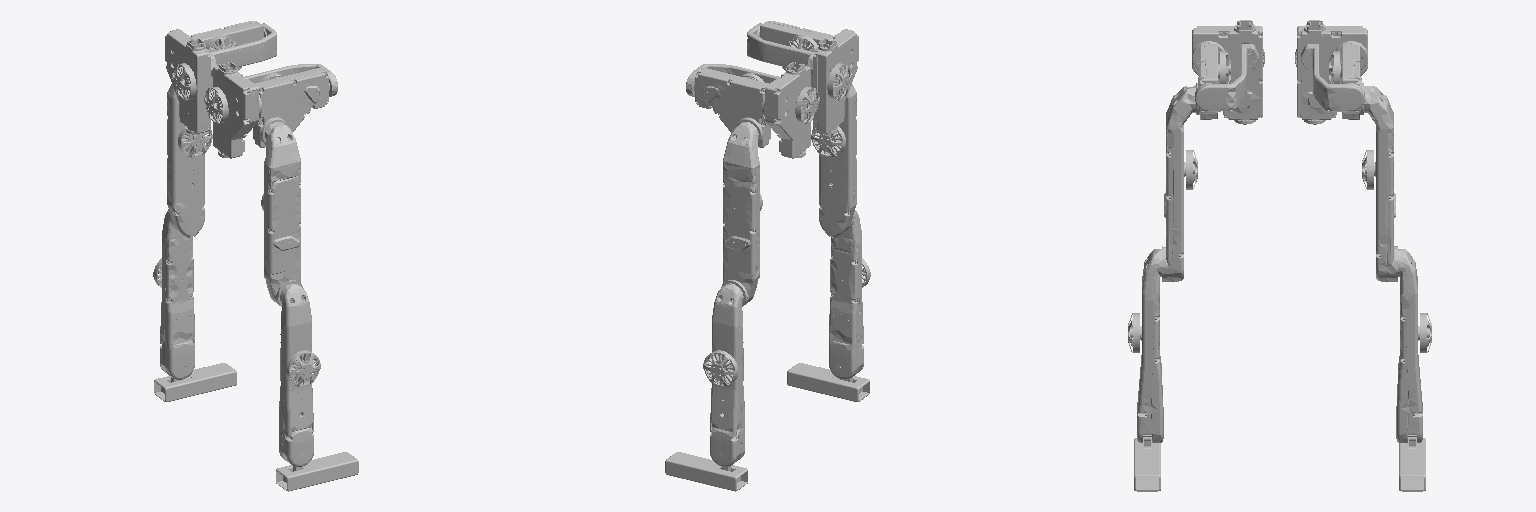
robot.urdf — bolt12_urdf:
<robot name="bolt12_urdf">
<link name="base_link">
    <inertial>
      <origin rpy="0 0 0" xyz="-0.011993 0 -0.019033"/>
      <mass value="1.105"/>
      <inertia ixx="0.006" ixy="0.0" ixz="0.000056" iyy="0.005" iyz="0.0" izz="0.006"/>
    </inertial>
    <visual>
      <origin rpy="0 0 0" xyz="0 0 0"/>
      <geometry>
        <mesh filename="../meshes/base_link_new.stl" />
      </geometry>
      <material name="grey">
        <color rgba="0.8 0.8 0.8 1.0"/>
      </material>
    </visual>
    <collision>
      <origin rpy="0 0 0" xyz="0 0 0"/>
      <geometry>
        <sphere radius="0.18"/>      
      </geometry>
      <material name="grey">
        <color rgba="0.8 0.8 0.8 1.0"/>
      </material>
    </collision>
    <contact>
      <lateral_friction value="1.0"/>
      <restitution value="0.5"/>
    </contact>
  </link>
  <joint name="L_HipYaw_Joint" type="revolute">
    <parent link="base_link"/>
    <child link="L_HipRoll_Link"/>
    <limit effort="3.5" lower="-0.43" upper="1.57" velocity="50"/>
    <axis xyz="0 0 1"/>
    <origin rpy="0 0 0" xyz="-0.025950 0.038500 -0.022950"/>
    <dynamics damping="0.0" friction="0.0"/>
  </joint>
  <link name="L_HipRoll_Link">
    <inertial>
      <mass value="0.207615"/>
      <origin rpy="0 0 0" xyz="0.010189 0.010846 -0.044532"/>
      <inertia ixx="0.000215" ixy="-0.000022" ixz="-0.000037" iyy="0.000371" iyz="-0.000027" izz="0.000321"/>
    </inertial>
    <visual>
      <origin rpy="0 0 0" xyz="0 0 0"/>
      <geometry>
        <mesh filename="../meshes/L_HipRoll_Link.stl" />
      </geometry>
      <material name="grey">
        <color rgba="0.8 0.8 0.8 1.0"/>
      </material>
    </visual>
    <contact>
      <lateral_friction value="1.0"/>
      <restitution value="0.5"/>
    </contact>
  </link>
  <joint name="L_HipRoll_Joint" type="revolute">
    <parent link="L_HipRoll_Link"/>
    <child link="L_HipPitch_Link"/>
    <limit effort="3.5" lower="-0.73" upper="1.57" velocity="50"/>
    <!-- joints rotates around the x-axis -->
    <axis xyz="1 0 0"/>
    <origin rpy="0 0 0" xyz="0.012950 0.040093 -0.031500"/>
    <!-- pybullet simulation parameters -->
    <dynamics damping="0.0" friction="0.0"/>
  </joint>
  <link name="L_HipPitch_Link">
    <!-- Left Hip pitch link inertia -->
    <inertial>
      <origin rpy="0 0 0" xyz="0.039527 -0.002981 -0.010338"/>
      <mass value="0.163597"/>
      <inertia ixx="0.000081" ixy="-0.000001" ixz="-0.000023" iyy="0.000173" iyz="0.000010" izz="0.000120"/>
    </inertial>
    <!-- Left Hip pitch link VISUAL -->
    <visual>
      <origin rpy="0 0 0" xyz="0 0 0"/>
      <geometry>
        <mesh filename="../meshes/L_HipPitch_Link.stl"/>
      </geometry>
      <material name="grey">
        <color rgba="0.8 0.8 0.8 1.0"/>
      </material>
    </visual>
    <!-- Left Hip pitch link COLLISION -->
    <!-- <collision>
      <origin rpy="0 0 0" xyz="0 0 0"/>
      <geometry>
        <mesh filename="../meshes/L_HipPitch_Link.stl"/>
      </geometry>
      <material name="grey">
        <color rgba="0.8 0.8 0.8 1.0"/>
      </material>
    </collision> -->
    <!-- Bullet specific paramters -->
    <contact>
      <lateral_friction value="1.0"/>
      <restitution value="0.5"/>
    </contact>
  </link>

   <joint name="L_HipPitch_Joint" type="revolute">
    <parent link="L_HipPitch_Link"/>
    <child link="L_Upper_Leg"/>
    <limit effort="4.4" lower="-1.57" upper="1.57" velocity="50"/>
    <!-- joints rotates around the y-axis -->
    <axis xyz="0 1 0"/>
    <origin rpy="0 0 0" xyz="0.021501 0.012950 -0.040093"/>
    <!--xacro:unless value="${is_right}">
        <origin xyz="${base_2_HAA_x} ${base_2_HAA_y + 0.0007888} ${-base_2_HAA_z}" rpy="0 0 0" />
      </xacro:unless>
      <xacro:if value="${is_right}">
        <origin xyz="${base_2_HAA_x} ${-base_2_HAA_y + 0.0007888} ${-base_2_HAA_z}" rpy="0 0 0" />
      </xacro:if-->
    <!-- pybullet simulation parameters -->
    <dynamics damping="0.0" friction="0.0"/>
  </joint>


  <link name="L_Upper_Leg">
    <!-- TODO: Update inertias and add visuals for link. -->
    <!-- create a dummy shoulder link to join the two joints -->
    <inertial>
      <!-- Left upper leg inertia -->
      <mass value="0.181003"/>
      <origin rpy="0 0 0" xyz="-0.001005 0.020913 -0.110191"/>
      <inertia ixx="0.000627" ixy="0.000001" ixz="0.000001" iyy="0.000634" iyz="0.000044" izz="0.000039"/>
    </inertial>
    <!-- Left upper leg LINK VISUAL -->
    <visual>
      <origin rpy="0 0 0" xyz="0 0 0"/>
      <geometry>
        <mesh filename="../meshes/L_Upper_Leg.stl" />
      </geometry>
      <material name="grey">
        <color rgba="0.8 0.8 0.8 1.0"/>
      </material>
    </visual>
    <!-- Left UPPER LEG LINK COLLISION -->
    <!-- <collision>
      <origin rpy="0 0 0" xyz="0 0 0"/>
      <geometry>
        <mesh filename="../meshes/L_Upper_Leg.stl"/>
      </geometry>
      <material name="grey">
        <color rgba="0.8 0.8 0.8 1.0"/>
      </material>
    </collision> -->
    <!-- Bullet specific paramters -->
    <contact>
      <lateral_friction value="1.0"/>
      <restitution value="0.5"/>
    </contact>
  </link>
  <!-- END UPPER LEG LINK -->


  <!-- KFE: Joint between the upper leg and the lower leg -->
  <joint name="L_KneePitch_Joint" type="revolute">
    <parent link="L_Upper_Leg"/>
    <child link="L_Lower_Leg"/>
    <limit effort="4.4" lower="0" upper="3.14" velocity="50"/>  

    <!-- joints rotates around the y-axis -->
    <axis xyz="0 1 0"/>
    <origin rpy="0 0 0" xyz="0.0 0.037450 -0.2"/>
    <!-- pybullet simulation parameters -->
    <dynamics damping="0.0" friction="0.0"/>
  </joint>

  <link name="L_Lower_Leg">
    <!-- Left lower leg inertia -->
    <inertial>
      <origin rpy="0 0 0" xyz="-0.016769 0.015942 -0.112963"/>
      <mass value="0.318462"/>
      <inertia ixx="0.001014" ixy="0.000954" ixz="-0.000008" iyy="0.001063" iyz="-0.000010" izz="0.000170"/>
    </inertial>
    <!-- LOWER LEG LINK VISUAL -->
    <visual>
      <origin rpy="0 0 0" xyz="0 0 0"/>
      <geometry>
        <mesh filename="../meshes/L_Lower_Leg.stl" />
      </geometry>
      <material name="grey">
        <color rgba="0.8 0.8 0.8 1.0"/>
      </material>
    </visual>
    <!-- LOWER LEG LINK COLLISION -->
    <!-- <collision>
      <origin rpy="0 0 0" xyz="0 0 0"/>
      <geometry>
        <mesh filename="../meshes/L_Lower_Leg.stl"/>
      </geometry>
      <material name="grey">
        <color rgba="0.8 0.8 0.8 1.0"/>
      </material>
    </collision> -->
    <!-- Bullet specific paramters -->
    <contact>
      <lateral_friction value="1.0"/>
      <restitution value="0.5"/>
    </contact>
  </link>
  <!-- END LOWER LEG LINK -->


  <!-- ANKLE- pitch: Joint between the lower leg and the foot -->
  <joint name="L_AnklePitch_Joint" type="revolute">
    <parent link="L_Lower_Leg"/>
    <child link="L_Ankle_PR_Connector"/>
    <origin rpy="0 0 0" xyz="0 0.014375 -0.2"/>
    <!-- joints rotates around the y-axis -->
    <axis xyz="0 1 0"/>
    <!-- Limits -->
    <limit effort="3.5" lower="-1.0" upper="1.0" velocity="50"/>
    <!-- pybullet simulation parameters -->
    <dynamics damping="0.0" friction="0.0"/>
  </joint>


  <link name="L_Ankle_PR_Connector">
  <!-- Left Ankle_PR_Connector inertia -->
  <inertial>
    <origin rpy="0 0 0" xyz="0 0 0"/>
    <mass value="0.005919"/>
    <inertia ixx="0.0" ixy="0.0" ixz="0.0" iyy="0.0" iyz="0.0" izz="0.0"/>
  </inertial>
  <!-- Ankle_PR_Connector VISUAL -->
  <visual>
    <origin rpy="0 0 0" xyz="0 0 0"/>
    <geometry>
      <mesh filename="../meshes/L_Ankle_PR_Connector.stl" />
    </geometry>
    <material name="grey">
      <color rgba="0.8 0.8 0.8 1.0"/>
    </material>
  </visual>
  <!-- Ankle_PR_Connector COLLISION -->
  <!-- <collision>
    <origin rpy="0 0 0" xyz="0 0 0"/>
    <geometry>
      <mesh filename="../meshes/L_Ankle_PR_Connector.stl"/>
    </geometry>
    <material name="grey">
      <color rgba="0.8 0.8 0.8 1.0"/>
    </material>
  </collision> -->
  <!-- Bullet specific paramters -->
  <contact>
    <lateral_friction value="1.0"/>
    <restitution value="0.5"/>
  </contact>
</link>
<!-- END Ankle_PR_Connector -->

  <!-- ANKLE - Roll: Joint between the lower leg_pitch and the lower leg_roll -->
  <joint name="L_AnkleRoll_Joint" type="revolute">
    <parent link="L_Ankle_PR_Connector"/>
    <child link="L_Foot"/>
    <origin rpy="0 0 0" xyz="0.0 0 0.0"/> 
    <!-- joints rotates around the x-axis -->
    <axis xyz="1 0 0"/>
    <!-- Limits -->
    <limit effort="3.5" lower="-0.50" upper="0.50" velocity="50"/>
    <!-- pybullet simulation parameters -->
    <dynamics damping="0.0" friction="0.0"/>
  </joint>

  <link name="L_Foot">
    <!-- FOOT INERTIAL -->
    <!-- This link is symmetrical left or right -->
    <inertial>
      <origin rpy="0 0 0" xyz="0.012950 0.001457 -0.019037"/>
      <mass value="0.034753"/>
      <inertia ixx="0.000011" ixy="-0.000001" ixz="0.000006" iyy="0.000026" iyz="0.000001" izz="0.000018"/>
    </inertial>
    <!-- FOOT VISUAL -->
    <visual>
      <origin rpy="0 0 0." xyz="0 0 0"/>
      <geometry>
        <!-- <mesh filename="../meshes/L_Foot.stl" /> -->
        <mesh filename="../meshes/L_Foot_box.stl" />
        <!-- <mesh filename="../meshes/L_Foot.stl" /> -->
      </geometry>
      <material name="grey">
        <color rgba="0.8 0.8 0.8 1.0"/>
      </material>
    </visual>
    <!-- FOOT COLLISION -->
     <!-- Cylinder FOOT -->
    <!-- <collision>
        <origin rpy="0.0 1.570796 0" xyz="0.027 0.003 -0.032"/>
        <geometry>
            <cylinder length="0.10" radius= "0.01"/>
        </geometry>
    </collision> -->
    <!-- BOX FOOT -->
    <collision>
        <origin rpy="0.1 0 0" xyz="0.027 0.003 -0.032"/>
        <geometry>
            <box size="0.10 0.04 0.02"/>
        </geometry>
    </collision>
    <!-- MESH FOOT -->
    <!-- <collision>
      <origin rpy="0 0 0." xyz="0 0 0"/>
      <geometry>
        <mesh filename="../meshes/L_Foot.stl"/>
      </geometry>
      <material name="grey">
        <color rgba="0.8 0.8 0.8 1.0"/>
      </material>
    </collision> -->
    <!-- Bullet specific paramters -->
    <contact>
      <lateral_friction value="4.0"/>
      <restitution value="0.0"/>
    </contact>
  </link>
  <!-- END FOOT LINK -->


  <joint name="R_HipYaw_Joint" type="revolute">
    <parent link="base_link"/>
    <child link="R_HipRoll_Link"/>
    <limit effort="3.5" lower="-1.57" upper="0.43" velocity="50"/>
    <!-- joints rotates around the x-axis -->
    <axis xyz="0 0 1"/>
    <origin rpy="0 0 0" xyz="-0.025950 -0.038500 -0.022950"/>
    <!--xacro:unless value="${is_right}">
        <origin xyz="${base_2_HAA_x} ${base_2_HAA_y + 0.0007888} ${-base_2_HAA_z}" rpy="0 0 0" />
      </xacro:unless>
      <xacro:if value="${is_right}">
        <origin xyz="${base_2_HAA_x} ${-base_2_HAA_y + 0.0007888} ${-base_2_HAA_z}" rpy="0 0 0" />
      </xacro:if-->
    <!-- pybullet simulation parameters -->
    <dynamics damping="0.0" friction="0.0"/>
  </joint>


  <link name="R_HipRoll_Link">
    <!-- TODO: Update inertias and add visuals for link. -->
    <!-- create a dummy shoulder link to join the two joints -->
    <inertial>
      <!-- Right hip roll link inertia -->
      <mass value="0.207615"/>
      <origin rpy="0 0 0" xyz="0.010189 -0.010846 -0.044532"/>
      <inertia ixx="0.000215" ixy="0.000022" ixz="-0.000037" iyy="0.000371" iyz="0.000027" izz="0.000321"/>
    </inertial>
    <!-- Right hip roll link VISUAL -->
    <visual>
      <origin rpy="0 0 0" xyz="0 0 0"/>
      <geometry>
        <mesh filename="../meshes/R_HipRoll_Link.stl"/>
      </geometry>
      <material name="grey">
        <color rgba="0.8 0.8 0.8 1.0"/>
      </material>
    </visual>
    <!-- Right hip roll link COLLISION -->
    <!-- <collision>
      <origin rpy="0 0 0" xyz="0 0 0"/>
      <geometry>
        <mesh filename="../meshes/R_HipRoll_Link.stl"/>
      </geometry>
      <material name="grey">
        <color rgba="0.8 0.8 0.8 1.0"/>
      </material>
    </collision> -->
    <!-- Bullet specific paramters -->
    <contact>
      <lateral_friction value="1.0"/>
      <restitution value="0.5"/>
    </contact>
  </link>


  <joint name="R_HipRoll_Joint" type="revolute">
    <parent link="R_HipRoll_Link"/>
    <child link="R_HipPitch_Link"/>
    <limit effort="3.5" lower="-1.57" upper="0.73" velocity="50"/>
    <!-- joints rotates around the x-axis -->
    <axis xyz="1 0 0"/>
    <origin rpy="0 0 0" xyz="0.012950 -0.040093 -0.031500"/>
    <!-- pybullet simulation parameters -->
    <dynamics damping="0.0" friction="0.0"/>
  </joint>


  <link name="R_HipPitch_Link">
    <!-- Right Hip pitch link inertia -->
    <inertial>
      <origin rpy="0 0 0" xyz="0.039257 0.002981 -0.010338"/>
      <mass value="0.163597"/>
      <inertia ixx="0.000081" ixy="0.000001" ixz="-0.000023" iyy="0.000173" iyz="-0.000010" izz="0.000120"/>
    </inertial>
    <!-- Right Hip pitch link  VISUAL -->
    <visual>
      <origin rpy="0 0 0" xyz="0 0 0"/>
      <geometry>
        <mesh filename="../meshes/R_HipPitch_Link.stl"/>
      </geometry>
      <material name="grey">
        <color rgba="0.8 0.8 0.8 1.0"/>
      </material>
    </visual>
    <!-- Right Hip pitch link  COLLISION -->
    <!-- <collision>
      <origin rpy="0 0 0" xyz="0 0 0"/>
      <geometry>
        <mesh filename="../meshes/R_HipPitch_Link.stl"/>
      </geometry>
      <material name="grey">
        <color rgba="0.8 0.8 0.8 1.0"/>
      </material>
    </collision> -->
    <!-- Bullet specific paramters -->
    <contact>
      <lateral_friction value="1.0"/>
      <restitution value="0.5"/>
    </contact>
  </link>

  <joint name="R_HipPitch_Joint" type="revolute">
    <parent link="R_HipPitch_Link"/>
    <child link="R_Upper_Leg"/>
    <limit effort="4.4" lower="-1.57" upper="1.57" velocity="50"/>
    <!-- joints rotates around the y-axis -->
    <axis xyz="0 1 0"/>
    <origin rpy="0 0 0" xyz="0.021501 -0.012950 -0.040093"/>
    <!-- pybullet simulation parameters -->
    <dynamics damping="0.0" friction="0.0"/>
  </joint>


<link name="R_Upper_Leg">
    <!-- Right upper leg inertia -->
    <inertial>
      <origin rpy="0 0 0" xyz="-0.001005 -0.020913 -0.110191"/>
      <mass value="0.181003"/>
      <inertia ixx="0.000627" ixy="-0.000001" ixz="0.000001" iyy="0.000631" iyz="-0.000044" izz="0.000039"/>
    </inertial>
    <!-- UPPER LEG LINK VISUAL -->
    <visual>
      <origin rpy="0 0 0" xyz="0 0 0"/>
      <geometry>
        <mesh filename="../meshes/R_Upper_Leg.stl"/>
      </geometry>
      <material name="grey">
        <color rgba="0.8 0.8 0.8 1.0"/>
      </material>
    </visual>
    <!-- UPPER LEG LINK COLLISION -->
    <!-- <collision>
      <origin rpy="0 0 0" xyz="0 0 0"/>
      <geometry>
        <mesh filename="../meshes/R_Upper_Leg.stl"/>
      </geometry>
      <material name="grey">
        <color rgba="0.8 0.8 0.8 1.0"/>
      </material>
    </collision> -->
    <!-- Bullet specific paramters -->
    <contact>
      <lateral_friction value="1.0"/>
      <restitution value="0.5"/>
    </contact>
  </link>
  <!-- END UPPER LEG LINK -->


  <!-- KFE: Joint between the upper leg and the lower leg -->
  <joint name="R_KneePitch_Joint" type="revolute">
    <parent link="R_Upper_Leg"/>
    <child link="R_Lower_Leg"/>
      <limit effort="4.4" lower="0" upper="3.14" velocity="50"/>
    <!-- joints rotates around the y-axis -->
    <axis xyz="0 1 0"/>
    <origin rpy="0 0 0" xyz="0.0 -0.037450 -0.2"/>
    <!-- pybullet simulation parameters -->
    <dynamics damping="0.0" friction="0.0"/>
  </joint>


  <link name="R_Lower_Leg">
    <!-- Right lower leg inertia -->
    <inertial>
      <origin rpy="0 0 0" xyz="-0.016769 0.015942 -0.112963"/>
      <mass value="0.318462"/>
      <inertia ixx="0.000954" ixy="0.000008" ixz="0.0" iyy="0.001063" iyz="0.000010" izz="0.000170"/>
    </inertial>
    <!-- LOWER LEG LINK VISUAL -->
    <visual>
      <origin rpy="0 0 0" xyz="0 0 0"/>
      <geometry>
        <mesh filename="../meshes/R_Lower_Leg.stl"/>
      </geometry>
      <material name="grey">
        <color rgba="0.8 0.8 0.8 1.0"/>
      </material>
    </visual>
    <!-- LOWER LEG LINK COLLISION -->
    <!-- <collision>
      <origin rpy="0 0 0" xyz="0 0 0"/>
      <geometry>
        <mesh filename="../meshes/R_Lower_Leg.stl"/>
      </geometry>
      <material name="grey">
        <color rgba="0.8 0.8 0.8 1.0"/>
      </material>
    </collision> -->
    <!-- Bullet specific paramters -->
    <contact>
      <lateral_friction value="1.0"/>
      <restitution value="0.5"/>
    </contact>
  </link>
  <!-- END LOWER LEG LINK -->


  <!-- ANKLE: Joint between the lower leg and the foot -->
  <joint name="R_AnklePitch_Joint" type="revolute">
    <parent link="R_Lower_Leg"/>
    <child link="R_Ankle_PR_Connector"/>
    <origin rpy="0 0 0" xyz="0.0 -0.014375 -0.2"/>
    <!-- joints rotates around the y-axis -->
    <axis xyz="0 1 0"/>
    <!-- Limits (usefull?) -->
    <limit effort="3.5" lower="-1.00" upper="1.00" velocity="50"/>
    <!-- pybullet simulation parameters -->
    <dynamics damping="0.0" friction="0.0"/>
  </joint>


  <link name="R_Ankle_PR_Connector">
  <!-- Right Ankle_PR_Connector inertia -->
  <inertial>
    <origin rpy="0 0 0" xyz="0 0 0.0"/>
    <mass value="0.005919"/>
    <inertia ixx="0.0" ixy="0.0" ixz="0.0" iyy="0.0" iyz="0.0" izz="0.0"/>
  </inertial>
  <!-- Ankle_PR_Connector VISUAL -->
  <visual>
    <origin rpy="0 0 0" xyz="0 0 0"/>
    <geometry>
      <mesh filename="../meshes/L_Ankle_PR_Connector.stl" />
    </geometry>
    <material name="grey">
      <color rgba="0.8 0.8 0.8 1.0"/>
    </material>
  </visual>
  <!-- Ankle_PR_Connector COLLISION -->
  <!-- <collision>
    <origin rpy="0 0 0" xyz="0 0 0"/>
    <geometry>
      <mesh filename="../meshes/R_Ankle_PR_Connector.stl"/>
    </geometry>
    <material name="grey">
      <color rgba="0.8 0.8 0.8 1.0"/>
    </material>
  </collision> -->
  <!-- Bullet specific paramters -->
  <contact>
    <lateral_friction value="1.0"/>
    <restitution value="0.5"/>
  </contact>
</link>
<!-- END Ankle_PR_Connector -->

  <!-- ANKLE - Roll: Joint between the lower leg_pitch and the lower leg_roll -->
  <joint name="R_AnkleRoll_Joint" type="revolute">
    <parent link="R_Ankle_PR_Connector"/>
    <child link="R_Foot"/>
    <origin rpy="0 0 0" xyz="0.0 0 0"/> 
    <!-- joints rotates around the x-axis -->
    <axis xyz="1 0 0"/>
    <!-- Limits -->
    <limit effort="3.5" lower="-0.50" upper="0.50" velocity="50"/>
    <!-- pybullet simulation parameters -->
    <dynamics damping="0.0" friction="0.0"/>
  </joint>



  <link name="R_Foot">
    <!-- FOOT INERTIAL -->
    <!-- This link is symmetrical left or right -->
    <inertial>
      <origin rpy="0 0 0" xyz="0.012950 -0.001457 -0.019037"/>
      <mass value="0.034753"/>
      <inertia ixx="0.000011" ixy="0.000001" ixz="0.000006" iyy="0.000023" iyz="-0.000001" izz="0.000018"/>
    </inertial>
    <!-- FOOT VISUAL -->
    <visual>
      <origin rpy="0 0 0." xyz="0 0 0"/>
      <geometry>
        <mesh filename="../meshes/R_Foot_box.stl"/>
      </geometry>
      <material name="grey">
        <color rgba="0.8 0.8 0.8 1.0"/>
      </material>
    </visual>
    <!-- FOOT COLLISION -->
    <!-- <collision>
        <origin rpy="0.0 1.570796 0" xyz="0.027 0.003 -0.032"/>
        <geometry>
            <cylinder length="0.10" radius= "0.01"/>
        </geometry>
    </collision> -->
    <!-- BOX FOOT -->
    <collision>
        <origin rpy="-0.1 0 0" xyz="0.027 -0.003 -0.032"/>
        <geometry>
            <box size="0.10 0.04 0.02"/>
        </geometry>
    </collision>
    <!-- MESH FOOT -->
    <!-- <collision>
      <origin rpy="0 0 0." xyz="0 0 0"/>
      <geometry>
        <mesh filename="../meshes/R_Foot.stl"/>
      </geometry>
      <material name="grey">
        <color rgba="0.8 0.8 0.8 1.0"/>
      </material>
    </collision> -->
    <!-- Bullet specific paramters -->
    <contact>
      <lateral_friction value="4.0"/>
      <restitution value="0.0"/>
    </contact>
  </link>
  <!-- END FOOT LINK -->

</robot>

--- What the picture shows (computed from the rendered views, not written in the file) ---
Views: 3 orthographic renders of the robot side by side, from view 1: azimuth 30°, elevation 25°; view 2: azimuth 150°, elevation 25°; view 3: azimuth 270°, elevation 25°.
Robot: bolt12_urdf — 13 links, 12 joints (12 revolute); root link base_link; default pose: all joints at 0.
Visible links, largest first — view 1: R_Upper_Leg, R_Lower_Leg, L_Lower_Leg, L_HipRoll_Link, R_HipRoll_Link, L_Upper_Leg, R_HipPitch_Link, R_Foot, L_Foot, L_HipPitch_Link; view 2: L_Upper_Leg, L_Lower_Leg, R_Lower_Leg, R_HipRoll_Link, L_HipRoll_Link, R_Upper_Leg, L_HipPitch_Link, L_Foot, R_Foot, R_HipPitch_Link; view 3: L_HipRoll_Link, R_HipRoll_Link, L_Lower_Leg, R_Lower_Leg, L_Upper_Leg, R_Upper_Leg, L_Foot, R_Foot, R_HipPitch_Link, L_HipPitch_Link.
Link boxes in pixels (box(x1,y1,x2,y2)): R_Upper_Leg: box(261, 121, 303, 306); R_Lower_Leg: box(279, 283, 320, 466); L_Lower_Leg: box(153, 209, 194, 379); L_HipRoll_Link: box(165, 23, 276, 134); R_HipRoll_Link: box(204, 62, 337, 158); L_Upper_Leg: box(167, 84, 212, 238); R_HipPitch_Link: box(253, 68, 330, 147); R_Foot: box(276, 452, 358, 491); L_Foot: box(154, 363, 236, 401); L_HipPitch_Link: box(191, 21, 264, 87); L_Upper_Leg: box(721, 122, 762, 306); L_Lower_Leg: box(703, 283, 744, 466); R_Lower_Leg: box(829, 210, 870, 379); R_HipRoll_Link: box(747, 23, 858, 134); L_HipRoll_Link: box(686, 62, 819, 158); R_Upper_Leg: box(811, 84, 856, 238); L_HipPitch_Link: box(693, 68, 770, 147); L_Foot: box(665, 452, 747, 491); R_Foot: box(787, 363, 869, 401); R_HipPitch_Link: box(759, 21, 832, 87); L_HipRoll_Link: box(1295, 20, 1367, 124); R_HipRoll_Link: box(1192, 20, 1264, 124); L_Lower_Leg: box(1396, 249, 1431, 442); R_Lower_Leg: box(1128, 249, 1163, 442); L_Upper_Leg: box(1362, 86, 1397, 281); R_Upper_Leg: box(1162, 85, 1197, 281); L_Foot: box(1399, 434, 1425, 491); R_Foot: box(1134, 434, 1160, 491); R_HipPitch_Link: box(1196, 44, 1230, 119); L_HipPitch_Link: box(1329, 44, 1363, 119).
Size in the robot's own frame: 0.1469 by 0.3357 by 0.5196 metres.
Meshes: 12 distinct files referenced, 12 mesh visuals loaded (11 binary STL); not drawn: 1 (reference not matched to a file when rendering).